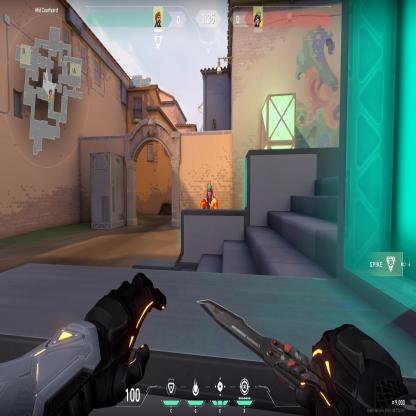enemy: (199, 180, 219, 210)
